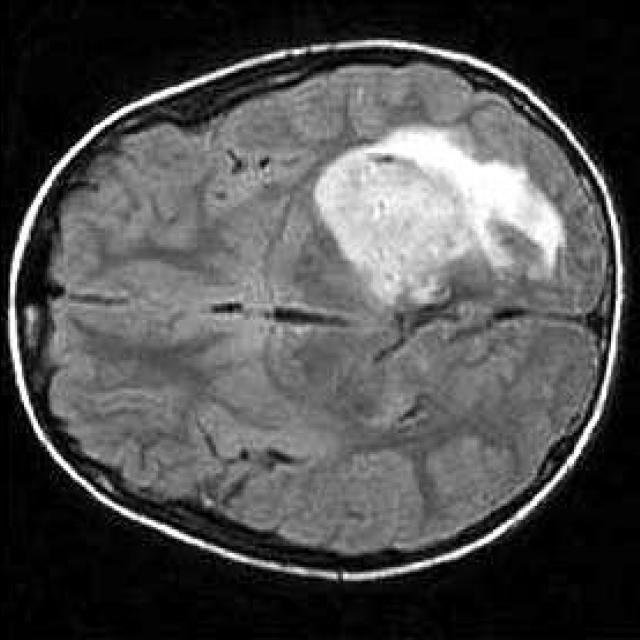tumor: (310, 125, 559, 313)
